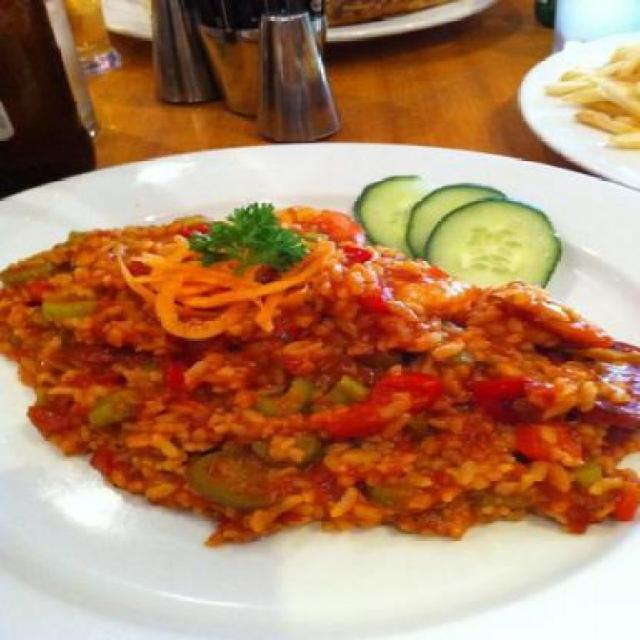Risotto: (26, 216, 639, 521)
